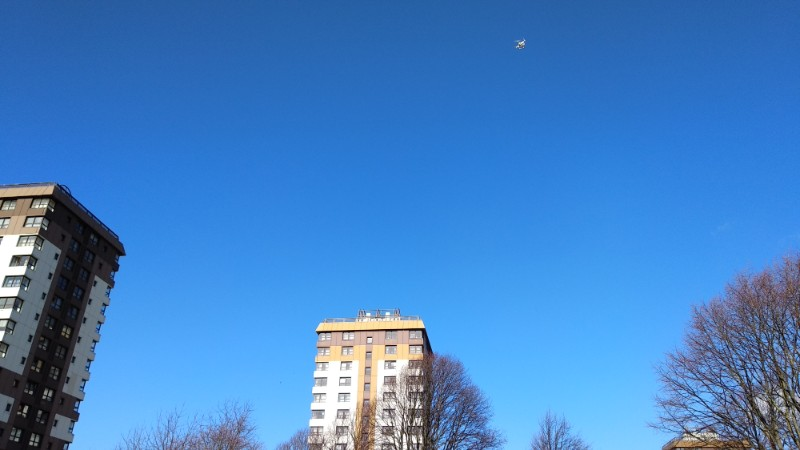drone: (513, 37, 527, 51)
